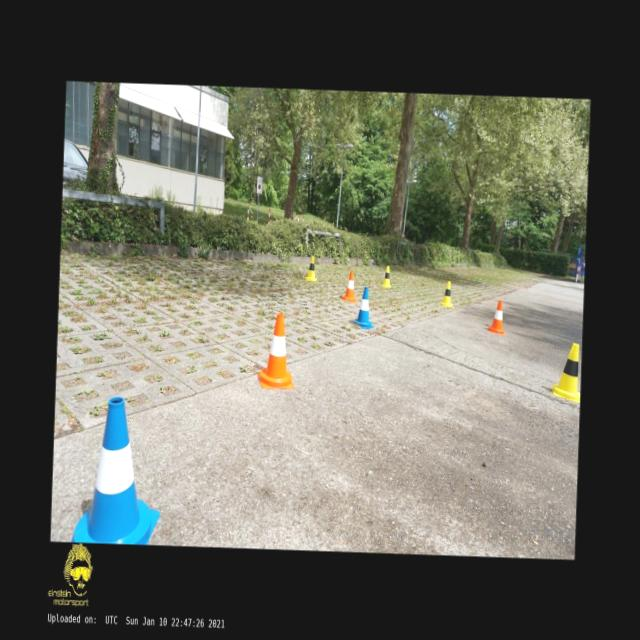blue_cone: (70, 396, 163, 544), (354, 286, 374, 328)
orange_cone: (256, 313, 296, 388), (487, 300, 505, 333), (342, 271, 356, 301)
yellow_cone: (552, 342, 582, 402), (441, 282, 452, 306), (306, 256, 316, 279), (382, 266, 391, 286)
